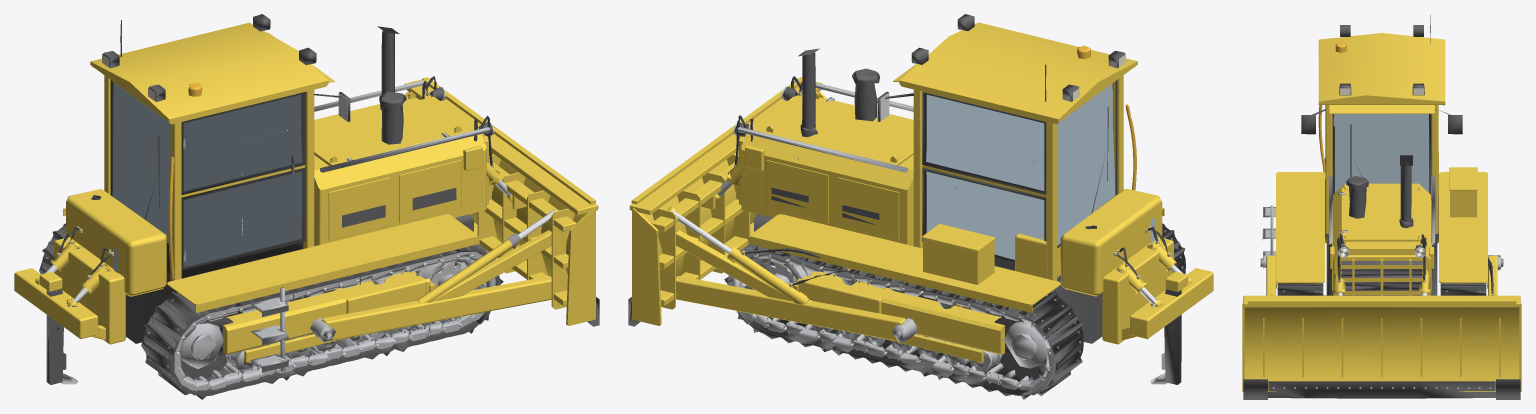
Rendered from SampleBulldozerFull_lod.glb.
3 renders of one model, left to right at view 1: azimuth 30°, elevation 25°; view 2: azimuth 150°, elevation 25°; view 3: azimuth 270°, elevation 25°, orthographic. The views are drawn at different scales.
Size of the model in its own units: 5300 by 3470 by 3430.
